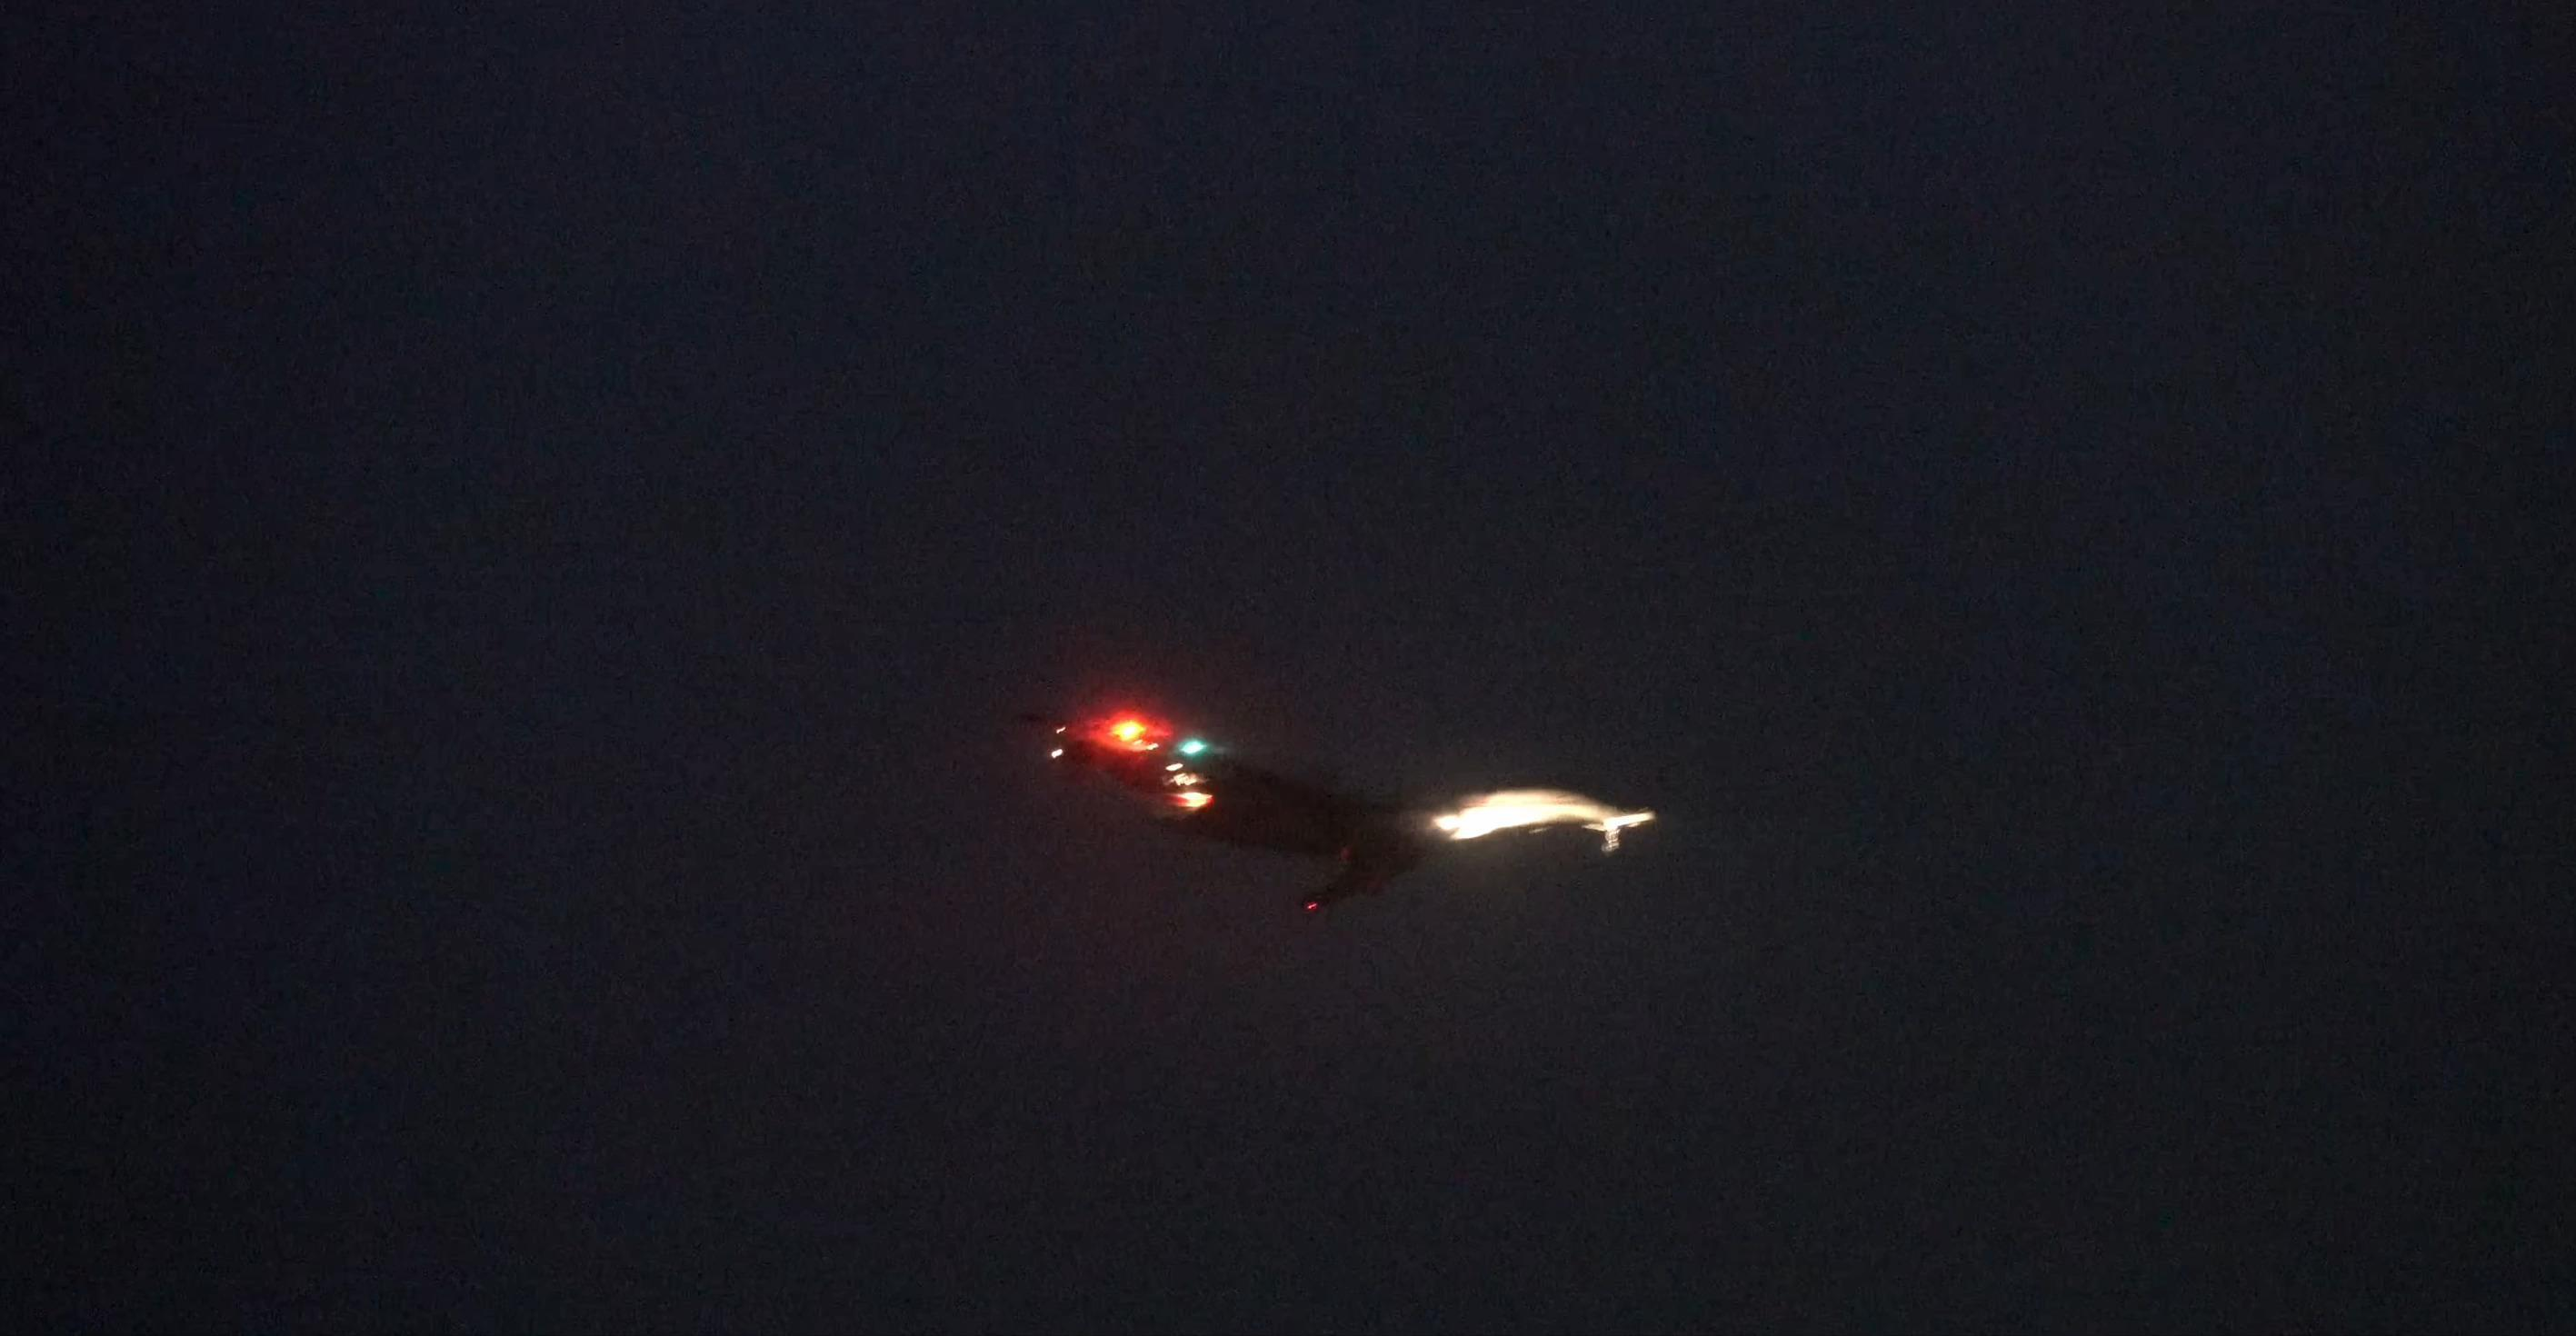Plane: (981, 700, 1685, 930)
